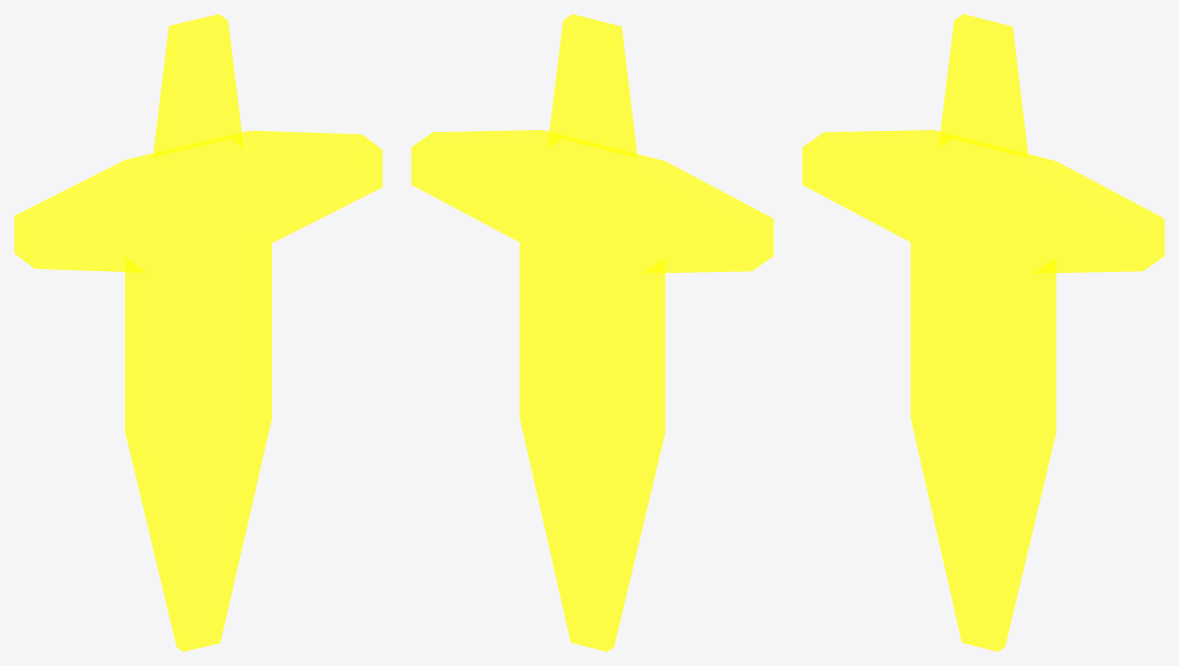
The model's file is Lilysword.fbx.
3 views of the same model, side by side, from view 1: azimuth 30°, elevation 25°; view 2: azimuth 150°, elevation 25°; view 3: azimuth 330°, elevation 25° (orthographic).
Parts seen in each view (by area): view 1: sword; view 2: sword; view 3: sword.
Boxes of the visible parts, x1,y1,x2,y2 form: sword: (14, 14, 382, 651); sword: (411, 14, 773, 651); sword: (802, 14, 1164, 651).
Size of the model in its own units: 124 by 214 by 15.29.
